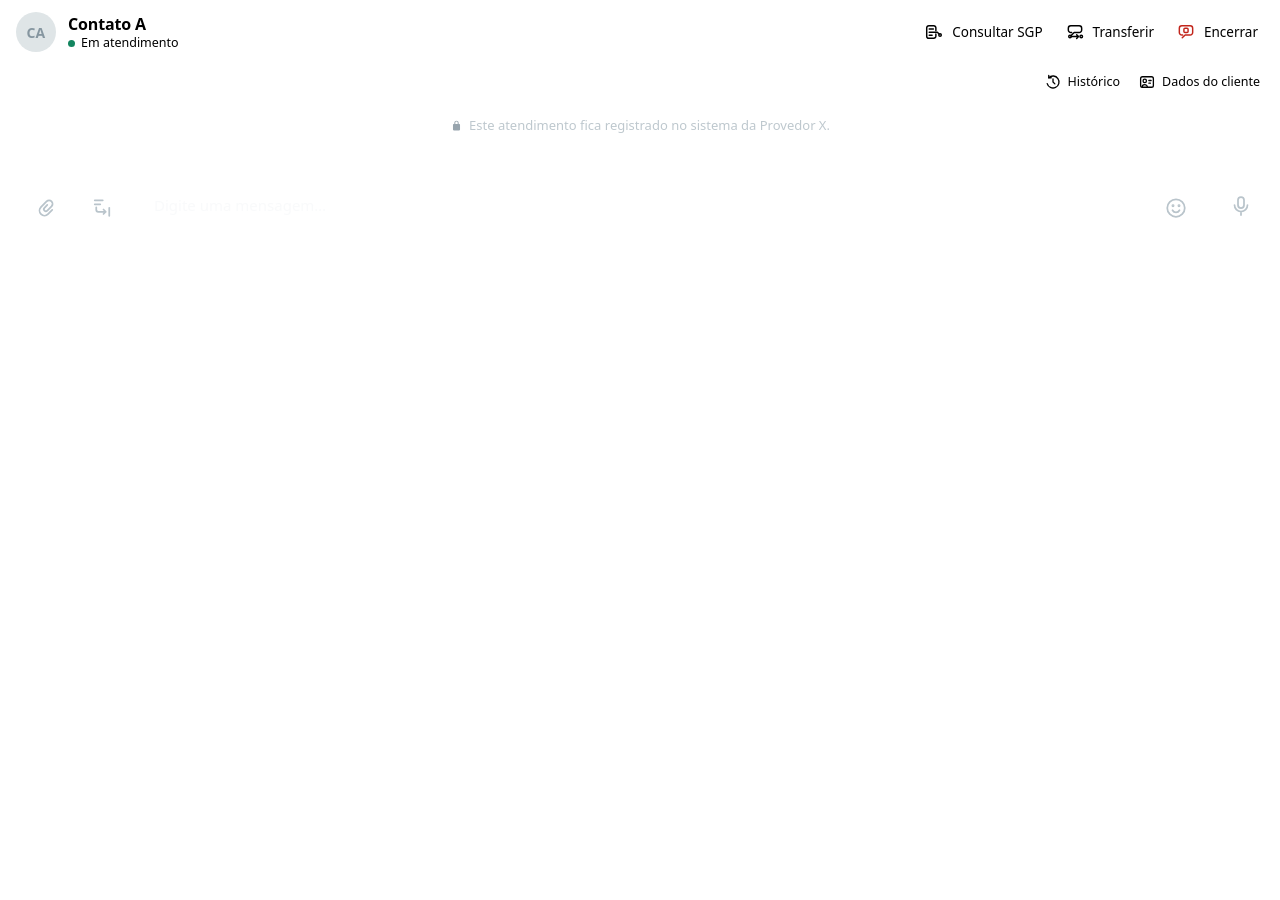
Dados do cliente na mesa › Editar cliente e Histórico abrem os modais que já existiam
Click the button "Dados do cliente": click(1199, 82) [1130, 66, 1268, 98]
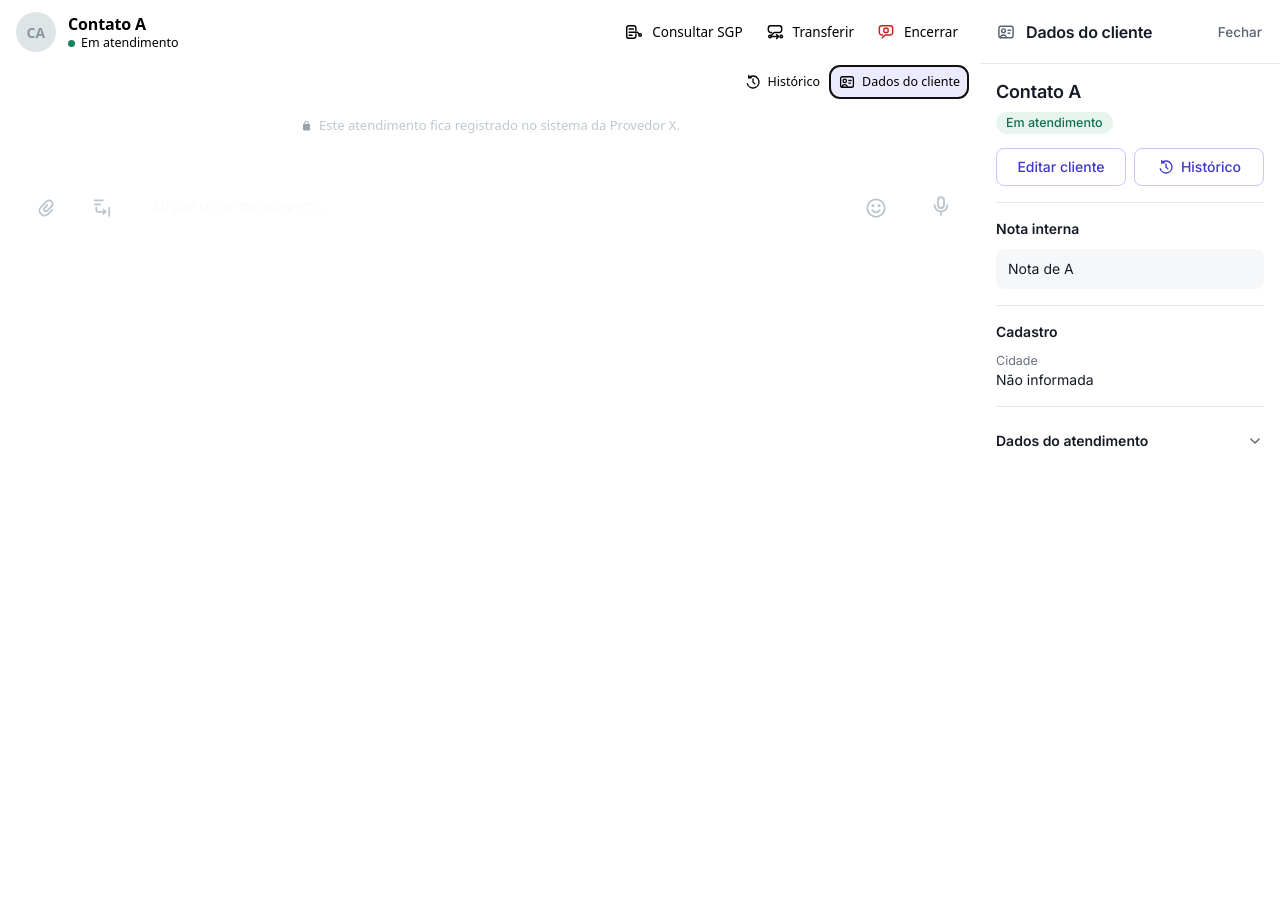
Click the button "Editar cliente": click(1061, 167) [996, 148, 1126, 186]
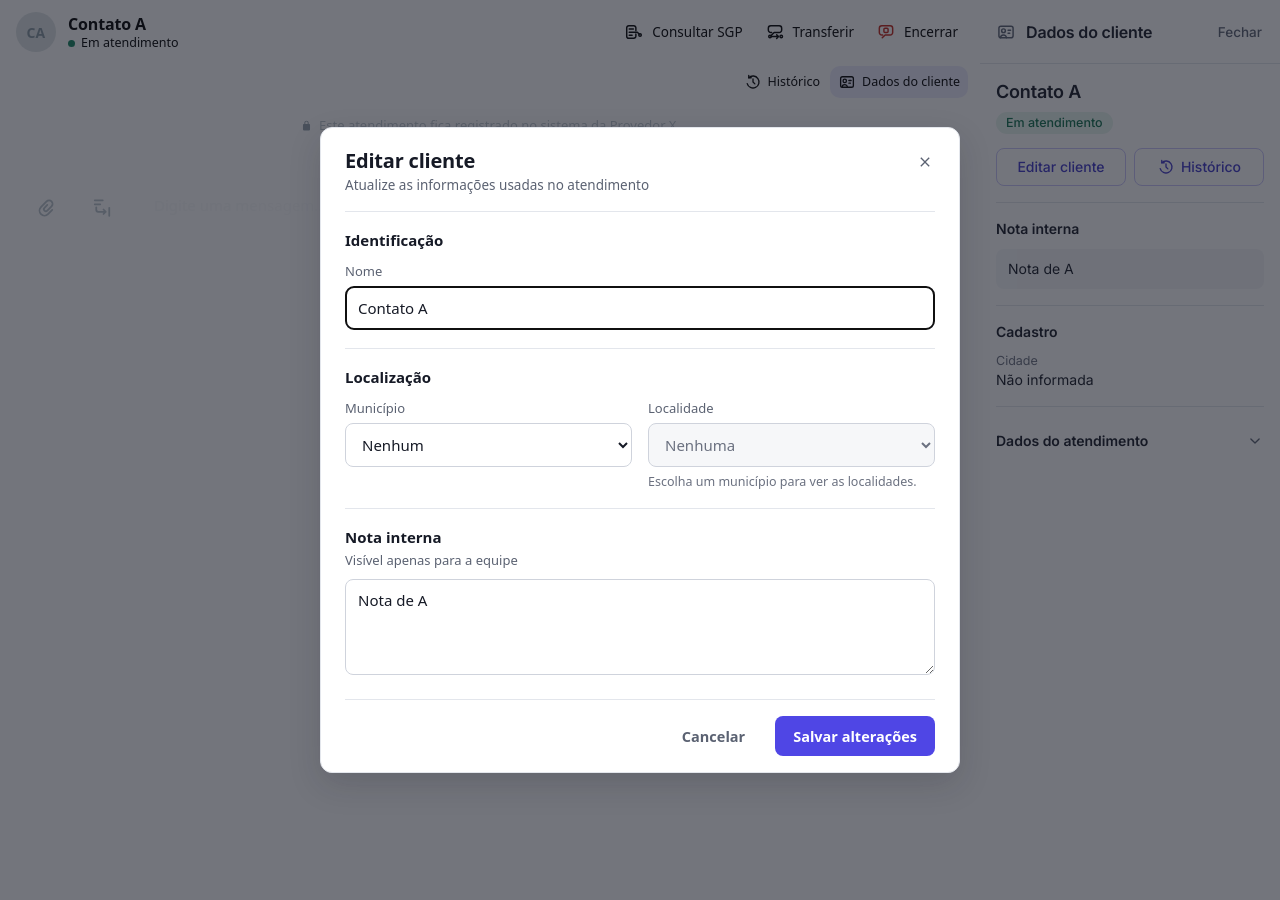
Check: the text box labelled "Nota interna" holds "Nota de A", box [345, 579, 935, 675]
Click the button "Cancelar": click(713, 736) [664, 716, 763, 756]
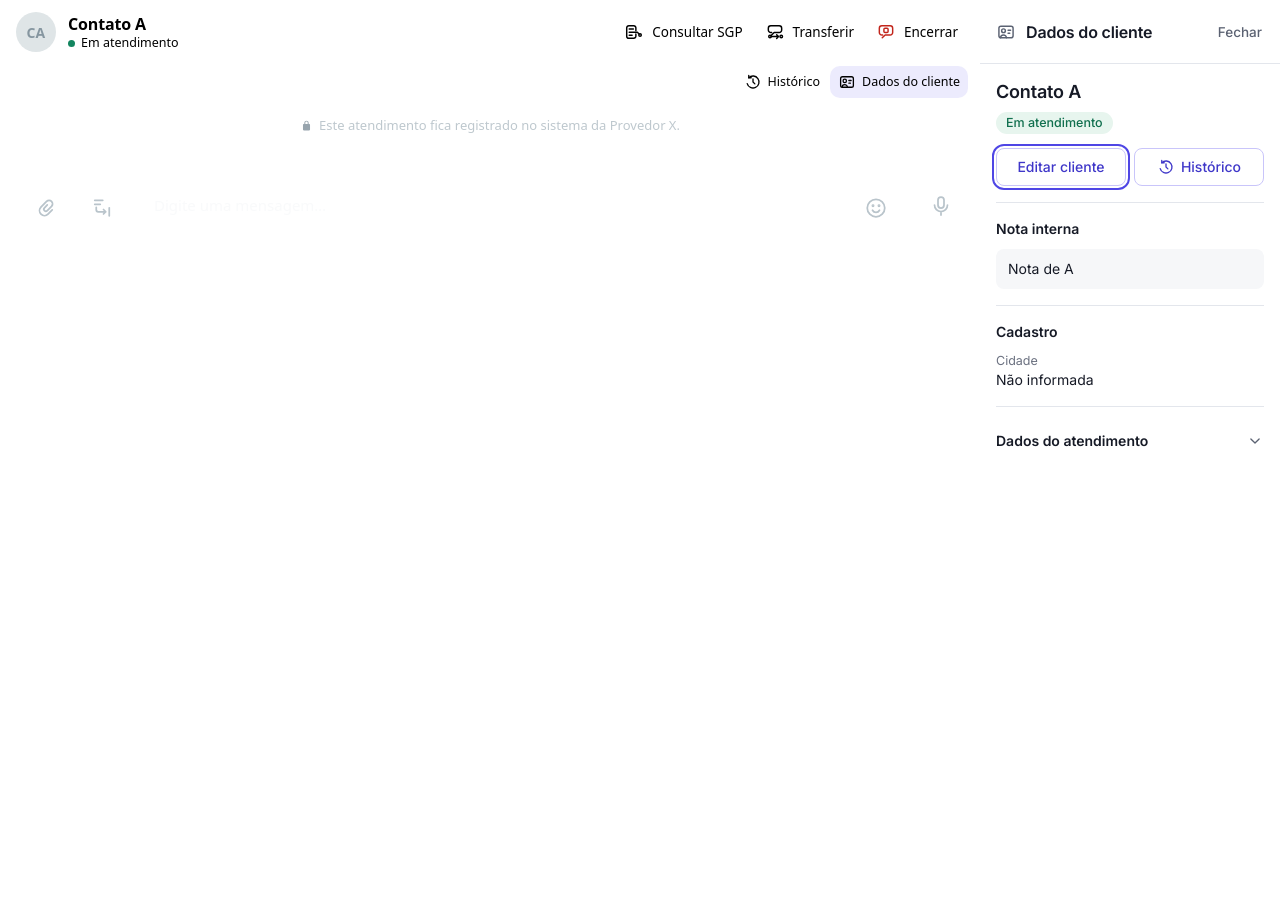
Click the 2nd button "Histórico": click(1199, 167) [1134, 148, 1264, 186]
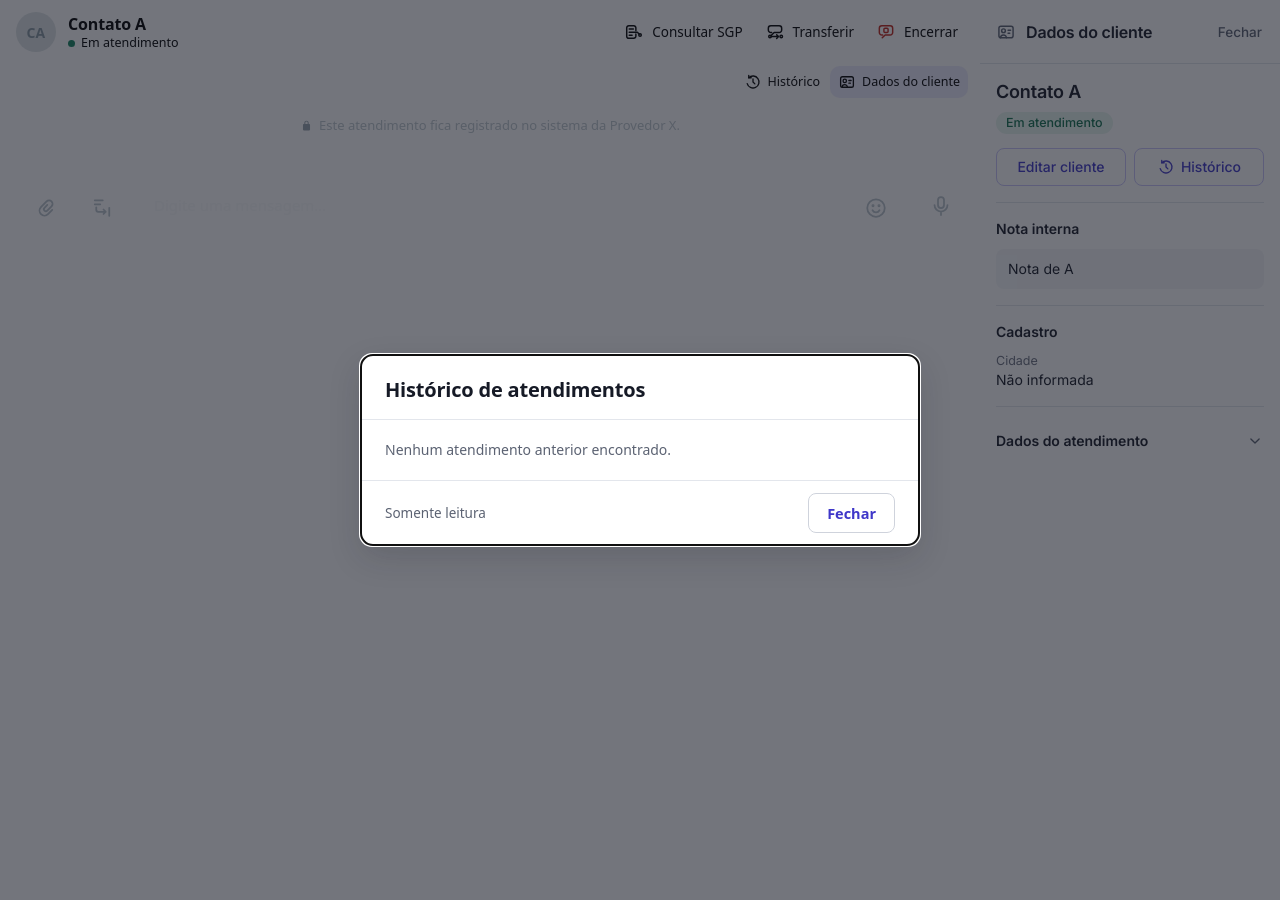
Check: the dialog "Histórico de atendimentos" is shown, box [360, 354, 920, 546]
